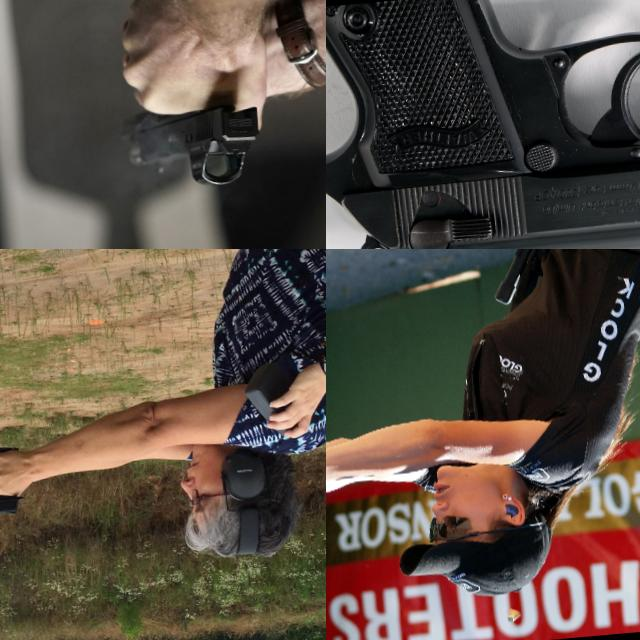handgun: (326, 0, 640, 249), (108, 60, 267, 198), (326, 422, 399, 550), (0, 439, 57, 525)
